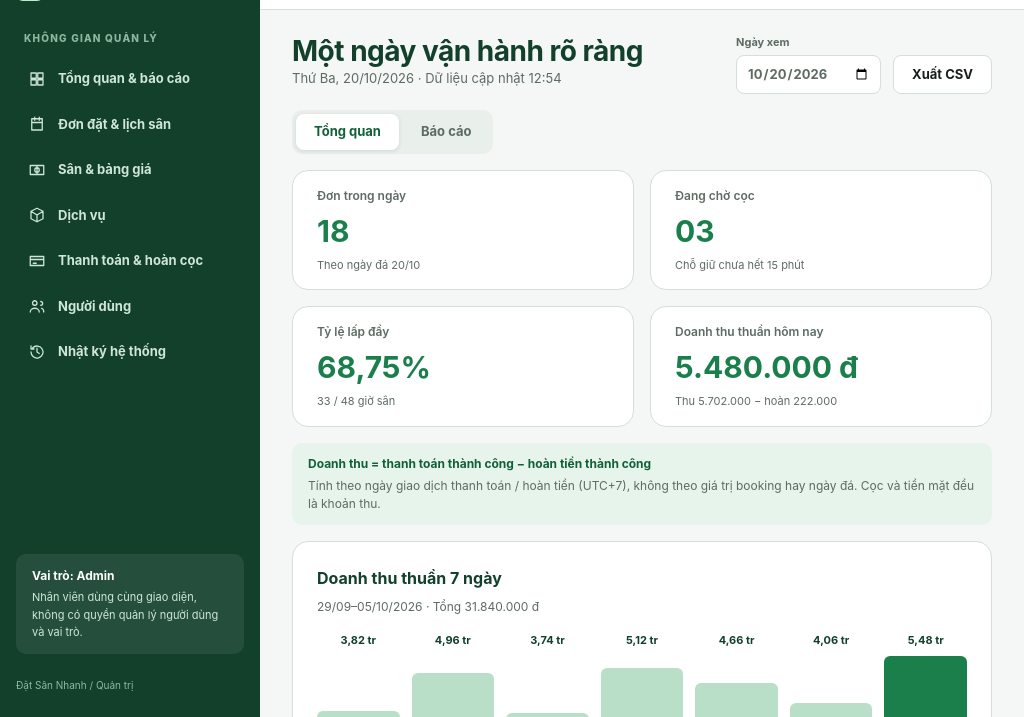
Test case: AdminDashboardPage - tab Báo cáo › chuyển tab hiện bảng, giờ cao điểm, tỷ lệ hủy và dòng tổng thu − hoàn
The image size is (1024, 717).
Click the tab "Báo cáo" at (446, 132), box [403,114,490,150]
(page scrolled)
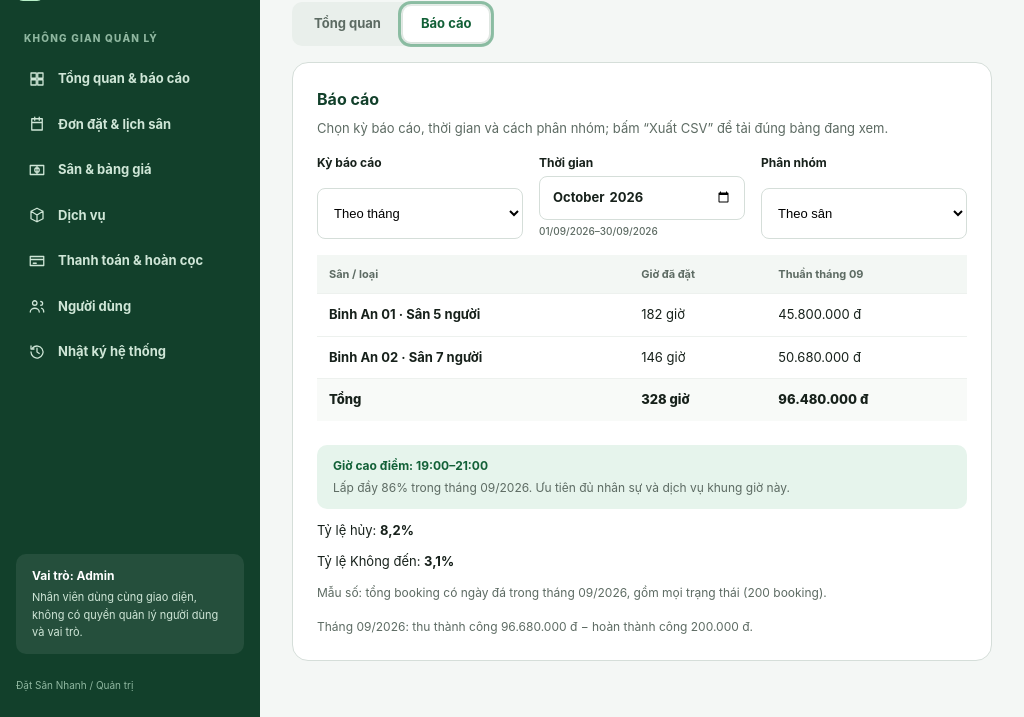
Expected: the column heading "Binh An 01 · Sân 5 người" is shown, [317,294,629,336]
Expected: the text "182 giờ" is shown, [629,294,766,336]
Expected: the column heading "Thuần tháng 09" is shown, [766,254,967,294]
